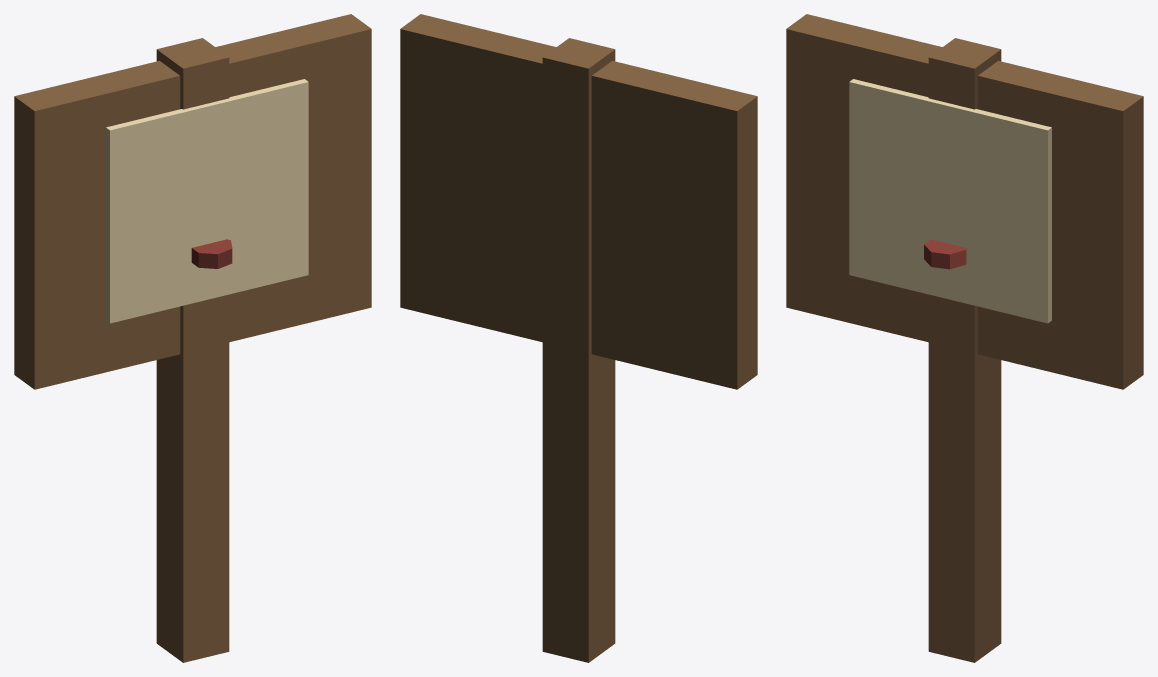
3 renders of one model, left to right at view 1: azimuth 30°, elevation 25°; view 2: azimuth 150°, elevation 25°; view 3: azimuth 330°, elevation 25°, orthographic.
Parts seen in each view (by area): view 1: 4382ab3fbcb1bcdbec05f351d522b2e2df9060828edc617d86dbf883db30; view 2: 4382ab3fbcb1bcdbec05f351d522b2e2df9060828edc617d86dbf883db30; view 3: 4382ab3fbcb1bcdbec05f351d522b2e2df9060828edc617d86dbf883db30.
Part boxes in pixels (x1,y1,x2,y2): 4382ab3fbcb1bcdbec05f351d522b2e2df9060828edc617d86dbf883db30: (14, 14, 371, 662); 4382ab3fbcb1bcdbec05f351d522b2e2df9060828edc617d86dbf883db30: (400, 14, 757, 662); 4382ab3fbcb1bcdbec05f351d522b2e2df9060828edc617d86dbf883db30: (786, 14, 1143, 662).
Size of the model in its own units: 0.95 by 1.6 by 0.2086.
Materials: 1 (1 with a texture image).
